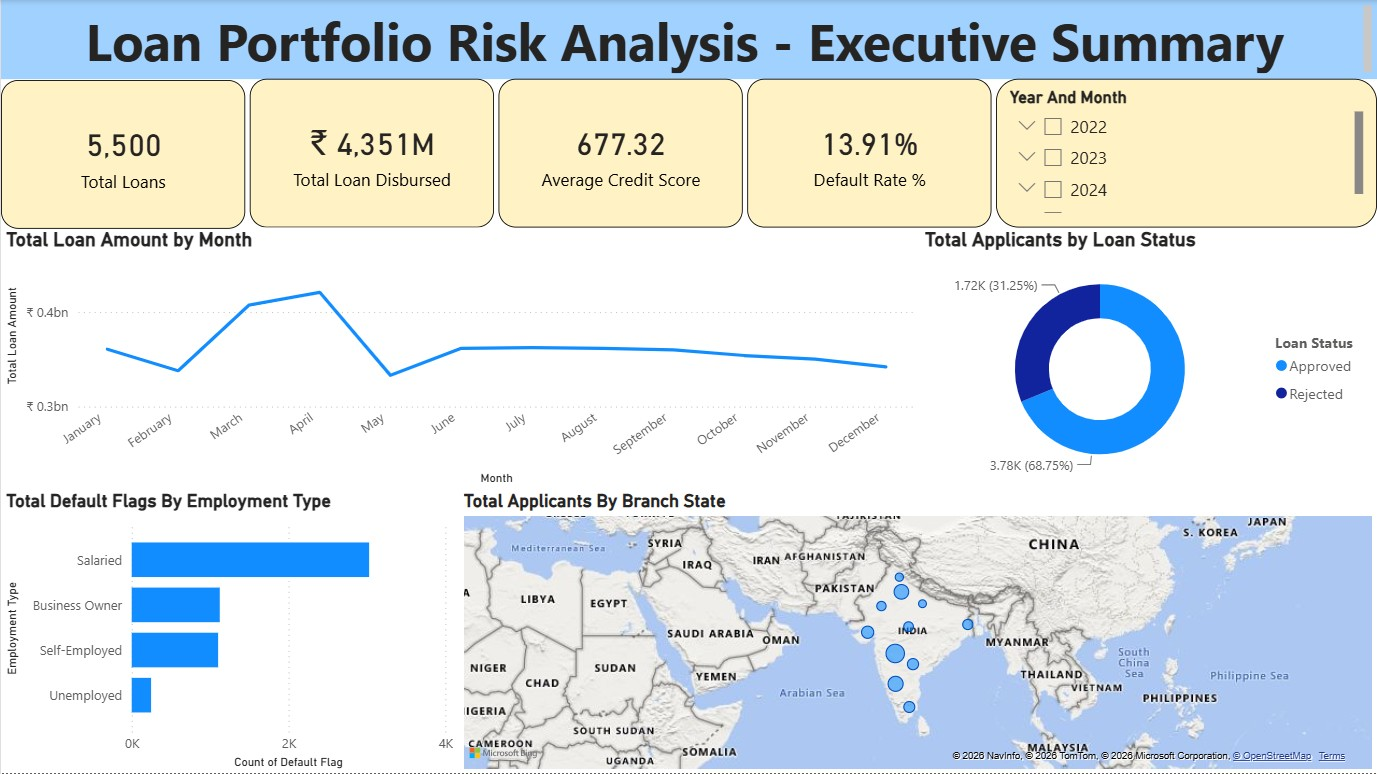

Layout of this report page (visuals, bound fields, positions):
{"tool":"powerbi","page":{"name":"Executive Summary","canvas":[1280,720],"ordinal":0},"visuals":[{"type":"textbox","box":[0,0,1280.3,73.4],"z":0},{"type":"card","fields":{"Values":["Sum(loan_applications.Loan_Amount_INR)"]},"box":[231.4,73.4,227.4,138.2],"z":1000},{"type":"donutChart","fields":{"Category":["loan_applications.Loan_Status"],"Y":["Count(loan_applications.Applicant_ID)"]},"box":[854.8,211.6,425.5,243.3],"z":2000},{"type":"lineChart","fields":{"Y":["Sum(loan_applications.Loan_Amount_INR)"],"Category":["loan_applications.Application_Date.Variation.Date Hierarchy.Month"]},"box":[0,211.6,854.8,244.6],"z":3000},{"type":"slicer","title":"Year And Month","fields":{"Values":["loan_applications.Application_Date.Variation.Date Hierarchy.Year","loan_applications.Application_Date.Variation.Date Hierarchy.Month"]},"box":[925.4,73.4,354.6,138.2],"z":4000},{"type":"card","fields":{"Values":["Avg(loan_applications.Credit_Score)"]},"box":[462.8,73.4,227.4,138.2],"z":5000},{"type":"card","fields":{"Values":["loan_applications.Default Rate %"]},"box":[694.3,73.4,227.4,138.2],"z":6000},{"type":"card","fields":{"Values":["Count(loan_applications.Applicant_ID)"]},"box":[0,74.6,227.4,138.2],"z":7000},{"type":"map","title":"Total Applicants By Branch State","fields":{"Category":["brach_masters.Branch_State"],"Size":["Count(loan_applications.Applicant_ID)"]},"box":[425.5,456.1,854.8,264.1],"z":8000},{"type":"clusteredBarChart","title":"Total Default Flags By Employment Type ","fields":{"Category":["loan_applications.Employment_Type"],"Y":["CountNonNull(loan_applications.Default_Flag)"]},"box":[0,456.1,425.5,264.1],"z":9000}]}

Visuals, with their boxes in screenshot pixels (x1, y1, x2, y2), scaled from the page's 1280x720 canvas onto the 1377x774 screenshot:
textbox: {"x1": 0, "y1": 0, "x2": 1376, "y2": 79}
card - Sum(loan_applications.Loan_Amount_INR): {"x1": 249, "y1": 79, "x2": 494, "y2": 227}
donutChart - loan_applications.Loan_Status x Count(loan_applications.Applicant_ID): {"x1": 920, "y1": 227, "x2": 1376, "y2": 489}
lineChart - Sum(loan_applications.Loan_Amount_INR) x loan_applications.Application_Date.Variation.Date Hierarchy.Month: {"x1": 0, "y1": 227, "x2": 920, "y2": 490}
"Year And Month" slicer: {"x1": 996, "y1": 79, "x2": 1376, "y2": 227}
card - Avg(loan_applications.Credit_Score): {"x1": 498, "y1": 79, "x2": 743, "y2": 227}
card - loan_applications.Default Rate %: {"x1": 747, "y1": 79, "x2": 992, "y2": 227}
card - Count(loan_applications.Applicant_ID): {"x1": 0, "y1": 80, "x2": 245, "y2": 229}
"Total Applicants By Branch State" map: {"x1": 458, "y1": 490, "x2": 1376, "y2": 773}
"Total Default Flags By Employment Type " clusteredBarChart: {"x1": 0, "y1": 490, "x2": 458, "y2": 773}
